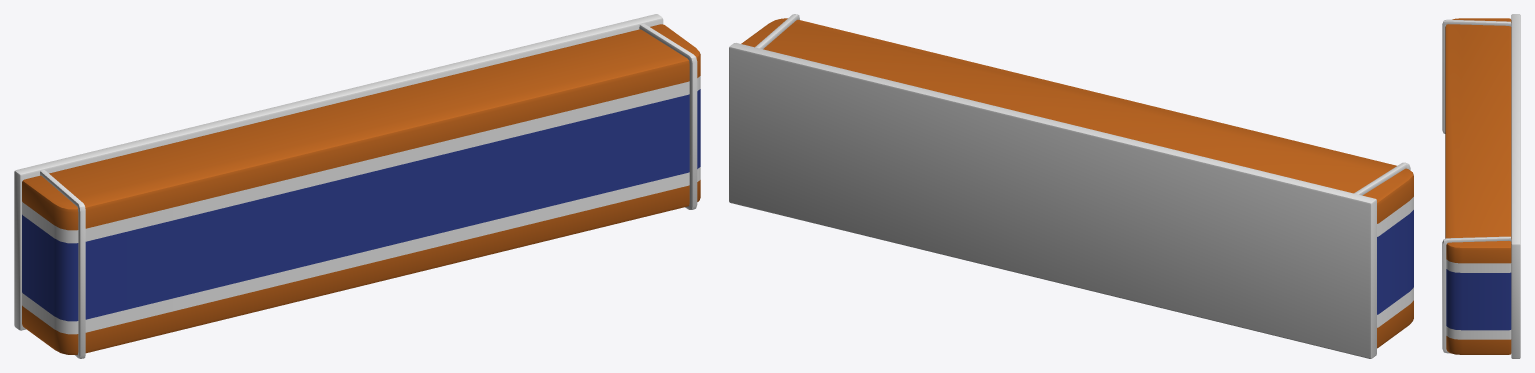
File: SM_led_board_02.fbx
3 views of the same model, side by side, from view 1: azimuth 30°, elevation 25°; view 2: azimuth 150°, elevation 25°; view 3: azimuth 270°, elevation 25° (orthographic). The views are drawn at different scales.
Parts seen in each view (by area): view 1: Object32362; view 2: Object32362; view 3: Object32362.
Part boxes in pixels (left/top/right/bottom): Object32362: left=14, top=14, right=700, bottom=358; Object32362: left=729, top=14, right=1413, bottom=358; Object32362: left=1442, top=14, right=1520, bottom=358.
Size of the model in its own units: 358 by 83.33 by 51.42.
